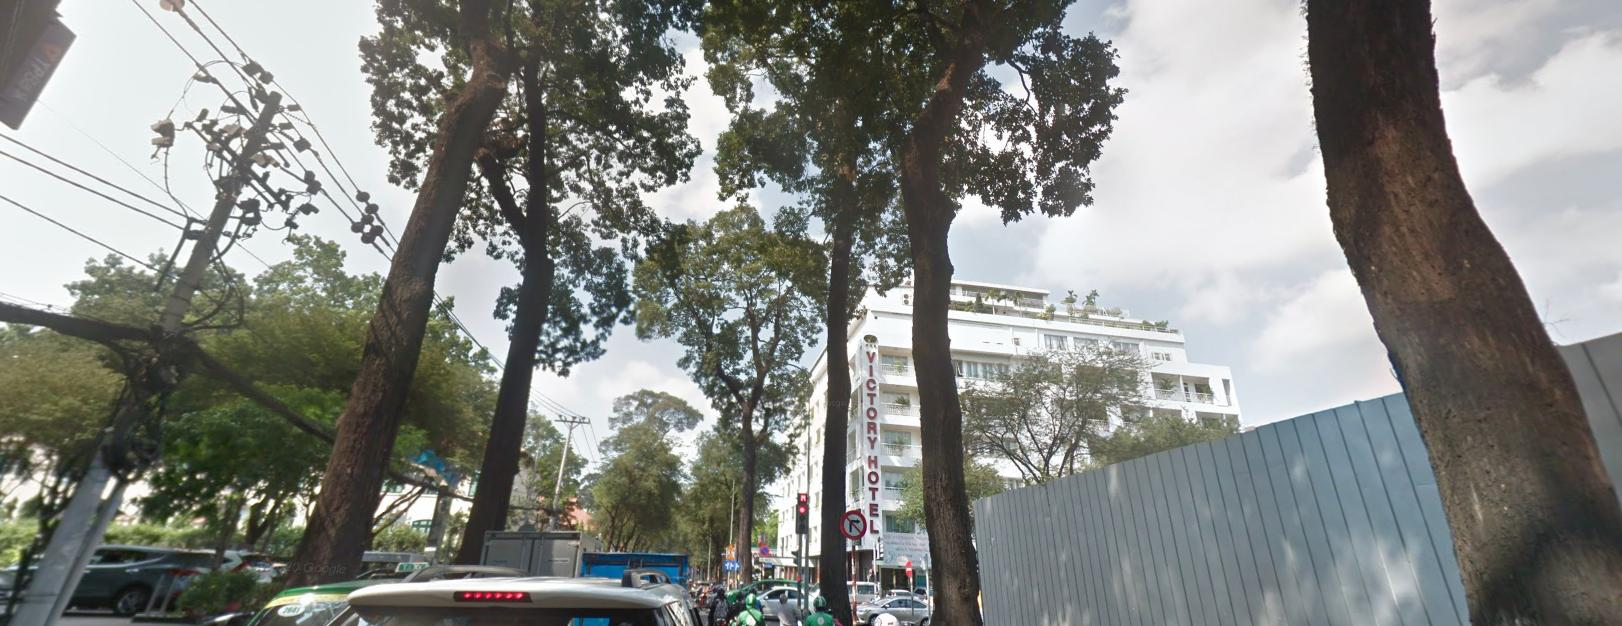Cam dung va do: (759, 544, 769, 555)
Cam nguoc chieu: (904, 560, 912, 577)
Cam re: (839, 508, 866, 537)
Nguy hiem: (726, 552, 734, 559), (727, 543, 734, 550)
